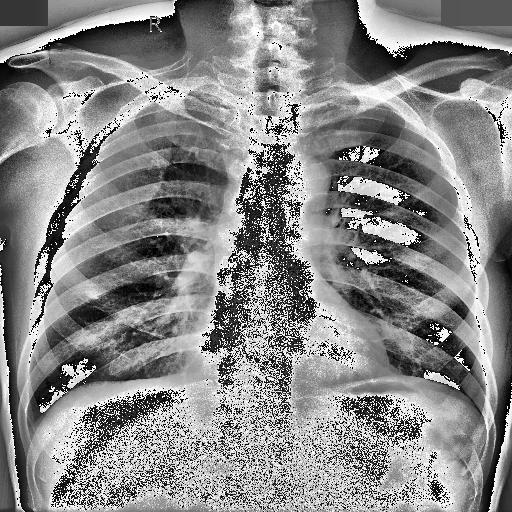0- Aortic enlargement: (271, 155, 329, 216)
8- Nodule-Mass: (86, 290, 100, 298)
9- Other lesion: (82, 288, 100, 298)
